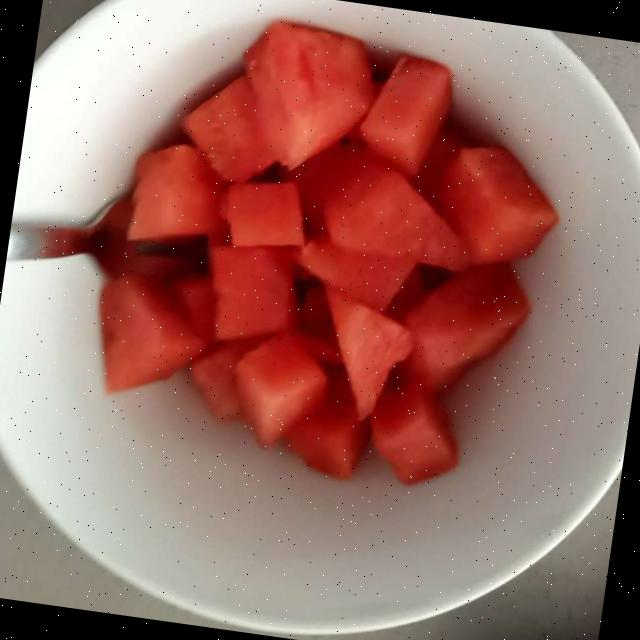watermelon-fresh: (83, 32, 549, 479)
